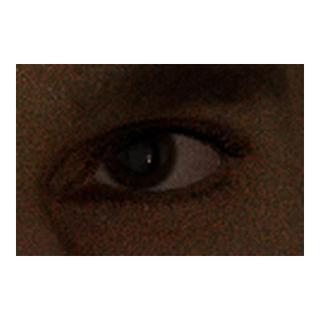pupil: (120, 134, 157, 172)
